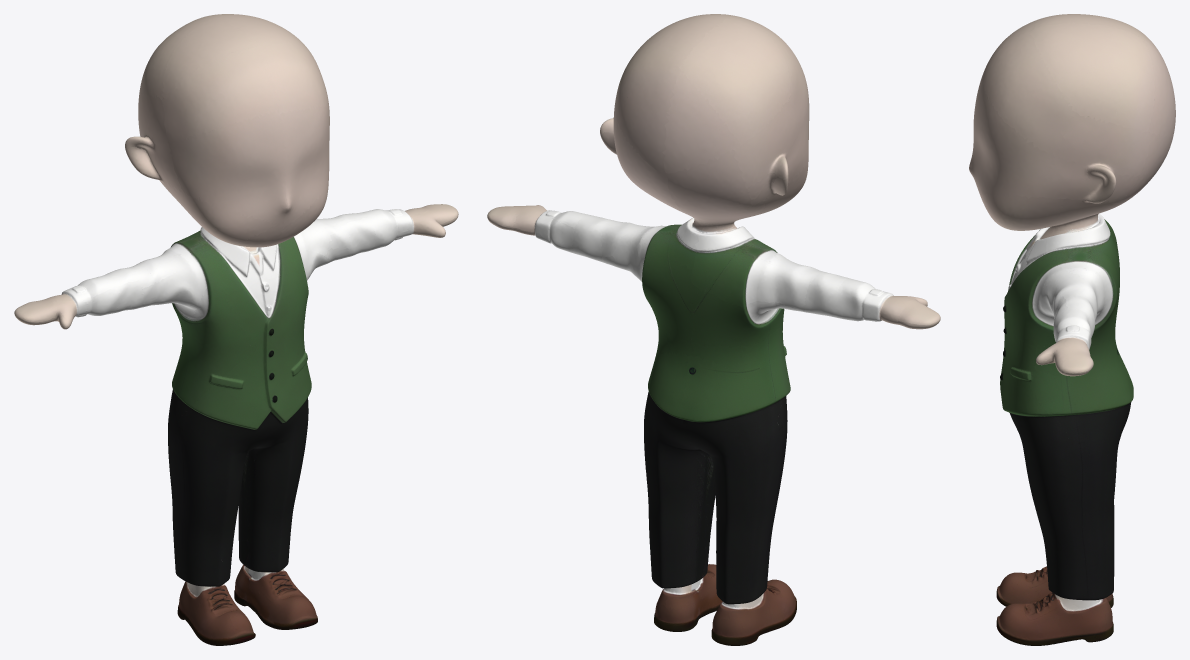
The model's file is baked_noutfit_vest.glb.
3 renders of one model, left to right at view 1: azimuth 30°, elevation 25°; view 2: azimuth 150°, elevation 25°; view 3: azimuth 270°, elevation 25°, orthographic. The views are drawn at different scales.
Size of the model in its own units: 1.49 by 1.9 by 0.5982.
Materials: 1 (1 with a texture image).
